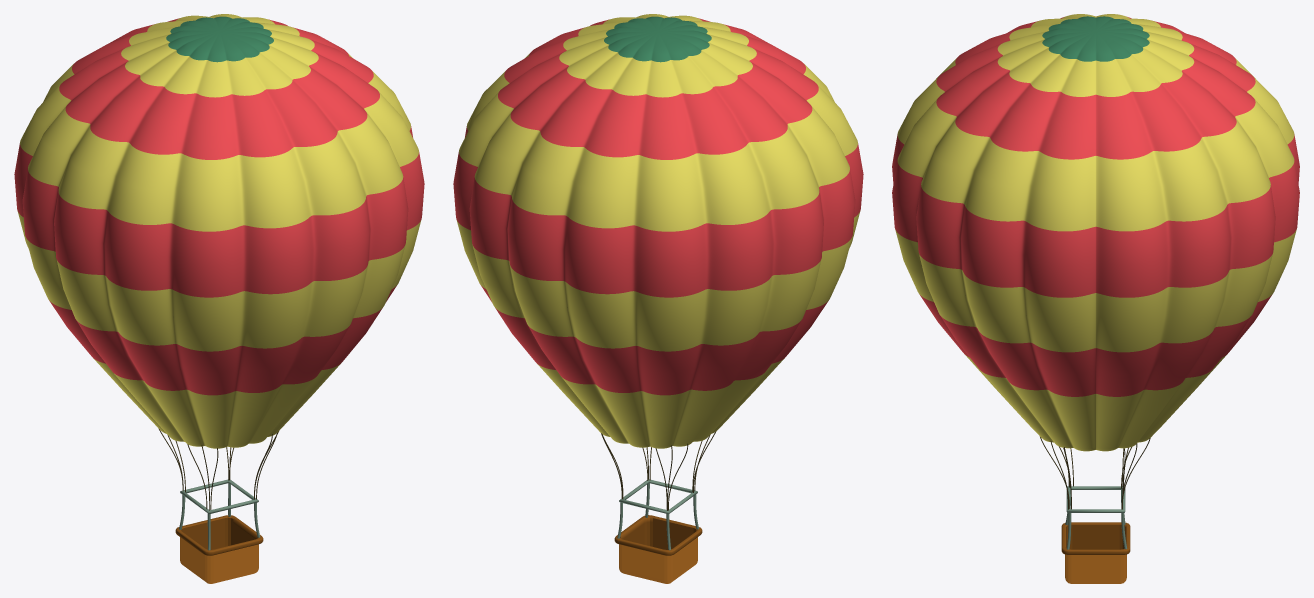
File: HotAirBalloonModel.fbx
3 views of the same model, side by side, from view 1: azimuth 30°, elevation 25°; view 2: azimuth 150°, elevation 25°; view 3: azimuth 270°, elevation 25° (orthographic).
Parts seen in each view (by area): view 1: Balloon, Basket, Frame; view 2: Balloon, Basket, Frame; view 3: Balloon, Basket, Frame.
Boxes of the visible parts, x1=… form: Balloon: x1=14, y1=14, x2=424, y2=448; Basket: x1=175, y1=515, x2=263, y2=583; Frame: x1=180, y1=479, x2=258, y2=514; Balloon: x1=453, y1=14, x2=863, y2=448; Basket: x1=614, y1=515, x2=702, y2=583; Frame: x1=619, y1=479, x2=697, y2=514; Balloon: x1=892, y1=14, x2=1299, y2=451; Basket: x1=1061, y1=522, x2=1130, y2=583; Frame: x1=1066, y1=486, x2=1125, y2=512.
Bounding box in the file's own units: 861 × 1264 × 862.
